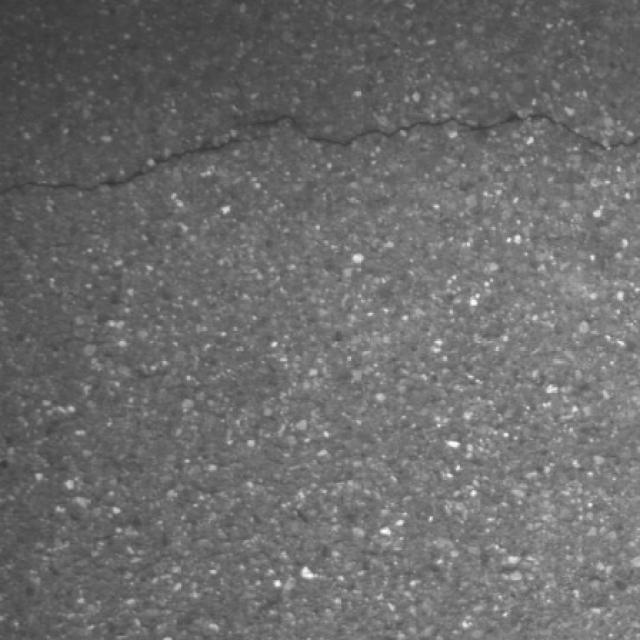Horizontal Crack: (11, 111, 640, 193)
